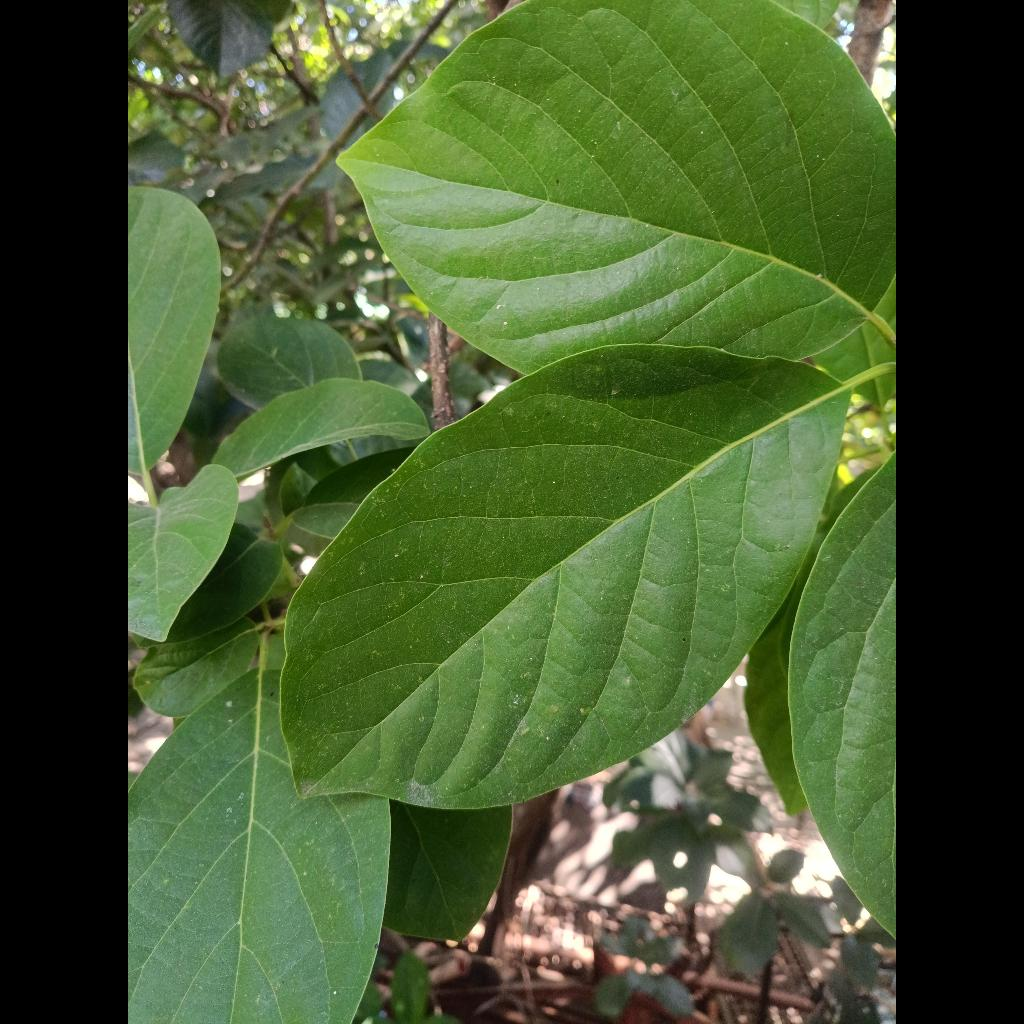Healthy: (282, 345, 847, 809), (341, 0, 896, 372)
